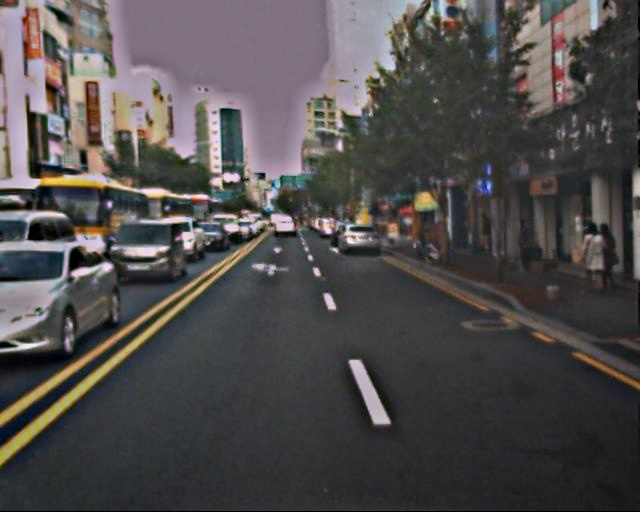person: (576, 220, 606, 294), (589, 220, 618, 291), (513, 218, 536, 275), (475, 213, 497, 266)
